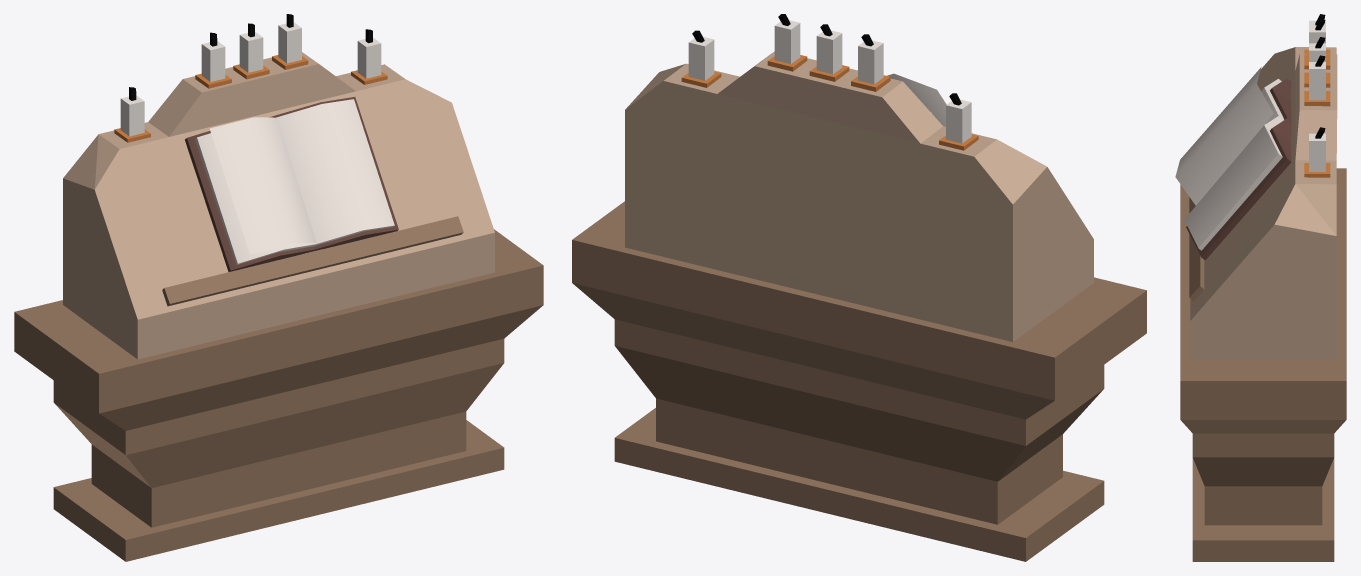
File: Spellbook Stand 01.FBX
3 renders of one model, left to right at view 1: azimuth 30°, elevation 25°; view 2: azimuth 150°, elevation 25°; view 3: azimuth 270°, elevation 25°, orthographic. The views are drawn at different scales.
Parts seen in each view (by area): view 1: Spellbook Stand 01; view 2: Spellbook Stand 01; view 3: Spellbook Stand 01.
Part boxes in pixels (x1,y1,x2,y2): Spellbook Stand 01: (14,14,543,561); Spellbook Stand 01: (572,14,1146,561); Spellbook Stand 01: (1175,14,1346,561).
Size of the model in its own units: 162 by 154 by 55.02.
